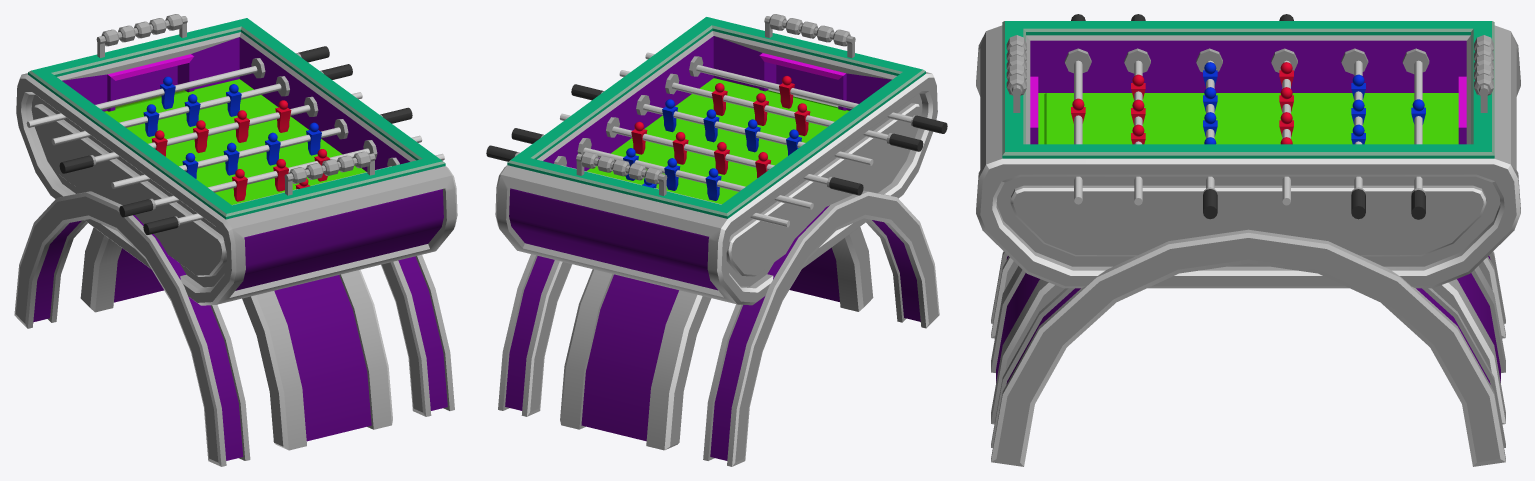
The model's file is FoosbalTableVIP.fbx.
3 views of the same model, side by side, from view 1: azimuth 30°, elevation 25°; view 2: azimuth 150°, elevation 25°; view 3: azimuth 270°, elevation 25° (orthographic). The views are drawn at different scales.
Visible parts, largest first — view 1: TableUP, pCylinder19, pCylinder20, pCylinder21, Foosball.004, Foosball.005, Foosball.003, Foosball.006, Foosball.002, pCylinder9, pCylinder7, pCylinder18 (+1 smaller); view 2: TableUP, pCylinder19, pCylinder20, pCylinder21, Foosball.004, Foosball.005, Foosball.006, Foosball.003, Foosball.007, pCylinder7, pCylinder9, pCylinder18 (+1 smaller); view 3: TableUP, pCylinder21, pCylinder19, pCylinder18, pCylinder20, Foosball.005, Foosball.003, Foosball.002, Foosball.004, Foosball.006, Foosball.007, pCylinder9 (+1 smaller).
Boxes of the visible parts, x1,y1,x2,y2 form: TableUP: [16, 18, 457, 305]; pCylinder19: [80, 227, 392, 450]; pCylinder20: [14, 191, 250, 466]; pCylinder21: [381, 254, 454, 416]; Foosball.004: [59, 92, 362, 173]; Foosball.005: [111, 107, 412, 188]; Foosball.003: [51, 64, 352, 145]; Foosball.006: [119, 135, 422, 217]; Foosball.002: [26, 46, 329, 127]; pCylinder9: [289, 151, 370, 183]; pCylinder7: [101, 14, 182, 46]; pCylinder18: [251, 58, 399, 166]; TableUP: [495, 17, 937, 305]; pCylinder19: [560, 227, 873, 450]; pCylinder20: [703, 190, 939, 466]; pCylinder21: [498, 254, 571, 416]; Foosball.004: [560, 113, 863, 195]; Foosball.005: [571, 84, 873, 165]; Foosball.006: [619, 70, 923, 151]; Foosball.003: [511, 128, 813, 209]; Foosball.007: [645, 52, 947, 133]; pCylinder7: [580, 152, 662, 184]; pCylinder9: [769, 14, 850, 46]; pCylinder18: [554, 56, 703, 166]; TableUP: [976, 21, 1520, 288]; pCylinder21: [991, 229, 1505, 466]; pCylinder19: [991, 266, 1505, 424]; pCylinder18: [1064, 48, 1429, 74]; pCylinder20: [991, 251, 1505, 338]; Foosball.005: [1203, 60, 1217, 219]; Foosball.003: [1351, 60, 1365, 219]; Foosball.002: [1411, 60, 1425, 219]; Foosball.004: [1279, 14, 1293, 205]; Foosball.006: [1131, 14, 1145, 205]; Foosball.007: [1071, 14, 1085, 204]; pCylinder9: [1006, 35, 1026, 95].
Bounding box in the file's own units: 455 × 375 × 544.
